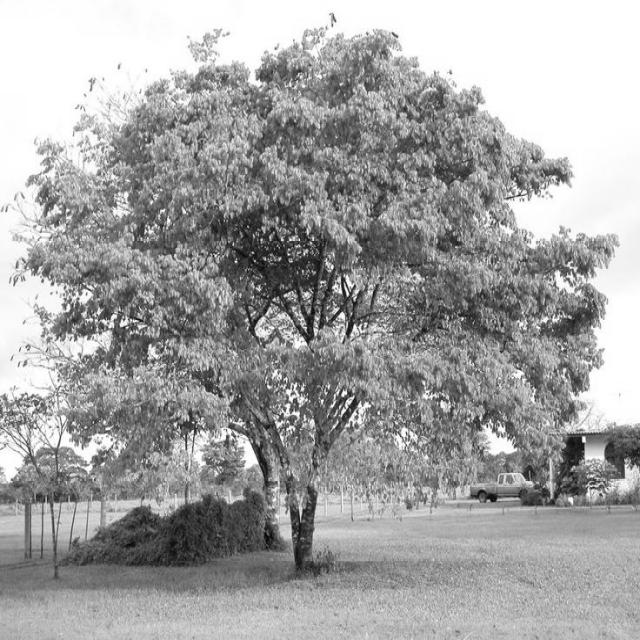Acacia: (52, 63, 544, 577)
